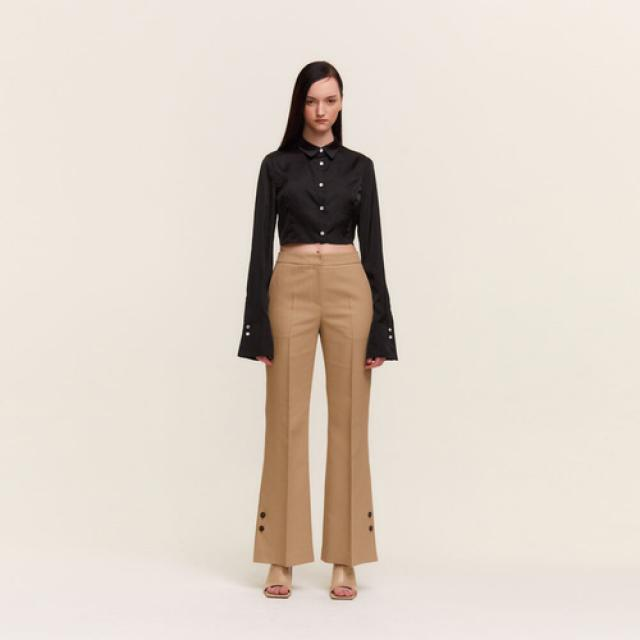dress: (259, 247, 375, 572)
